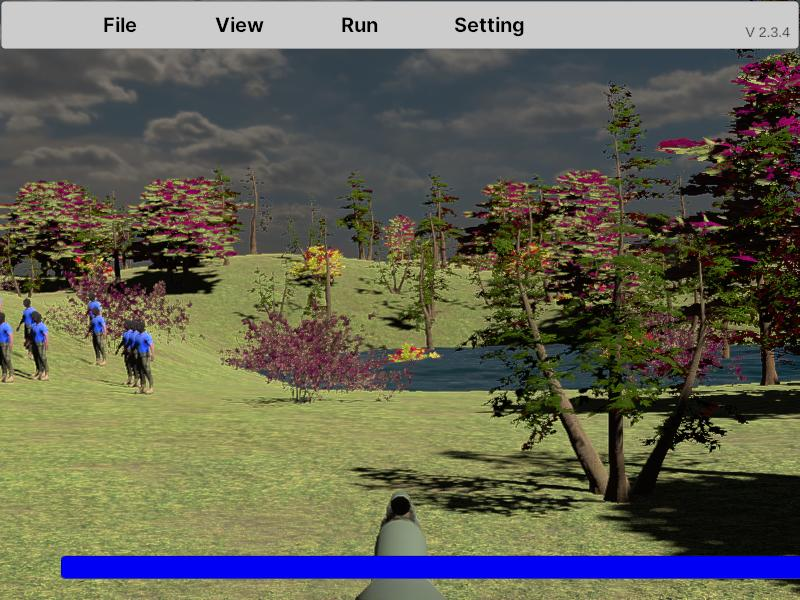Human: (130, 321, 154, 394), (117, 320, 139, 386), (29, 312, 50, 381), (86, 306, 107, 367), (18, 300, 39, 357), (0, 312, 14, 383)
